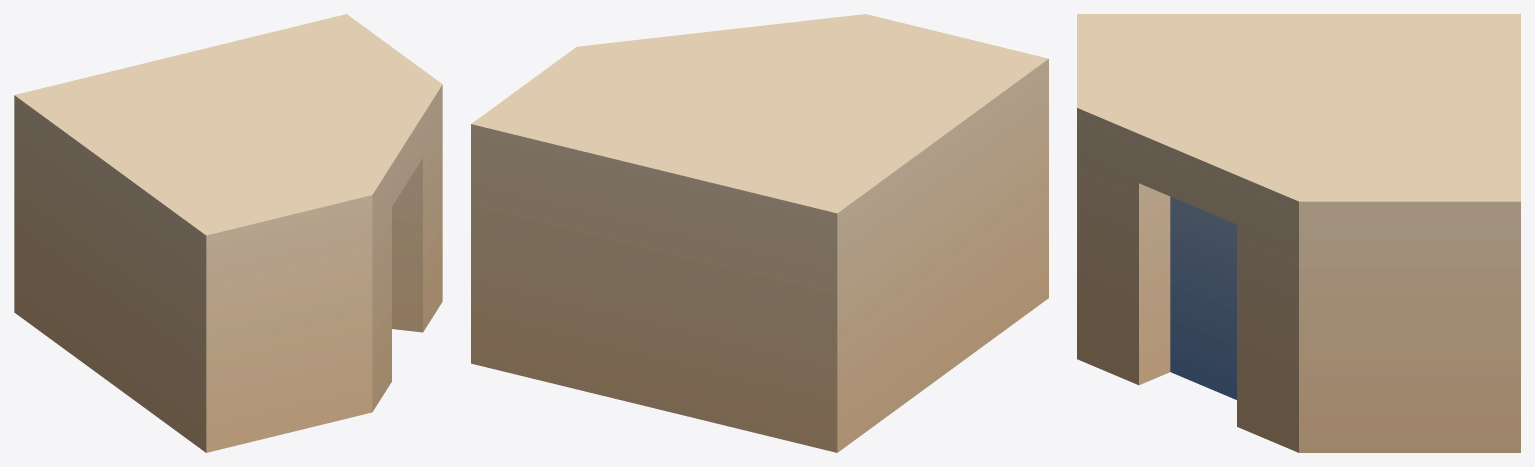
Rendered from kenney-modular-buildings-building-corner-window-top-square.glb.
The picture shows the model from 3 angles, left to right: view 1: azimuth 30°, elevation 25°; view 2: azimuth 150°, elevation 25°; view 3: azimuth 270°, elevation 25°; orthographic projection. The views are drawn at different scales.
Parts seen in each view (by area): view 1: building-corner-window-top-square; view 2: building-corner-window-top-square; view 3: building-corner-window-top-square.
Boxes of the visible parts, x1,y1,x2,y2 form: building-corner-window-top-square: (14, 14, 442, 452); building-corner-window-top-square: (471, 14, 1048, 452); building-corner-window-top-square: (1077, 14, 1520, 452).
Bounding box in the file's own units: 1 × 0.625 × 1.
Materials: 1 (1 with a texture image).
